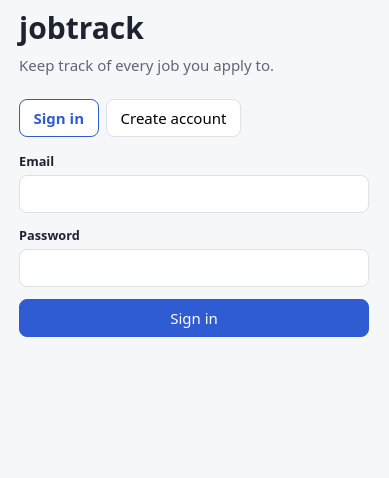
it: LoginPage › checks the password length before creating an account
Step 1. Click the tab "Create account" → x=173, y=118, box [106,99,241,137]
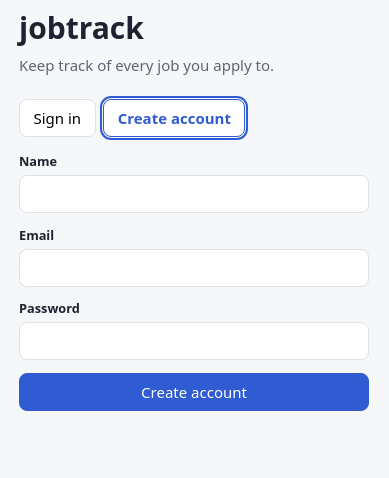
Step 2. Type "Ada" into the field labelled "Name" → x=194, y=194, box [19,175,369,213]
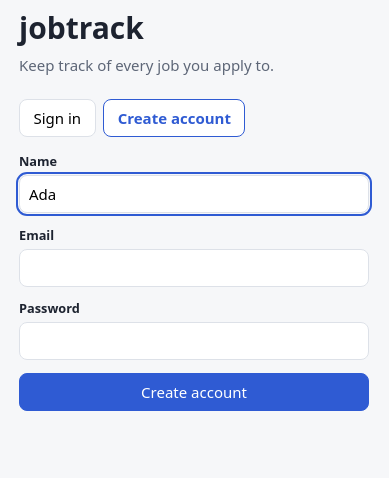
Step 3. Type "ada@example.com" into the field labelled "Email" → x=194, y=268, box [19,248,369,286]
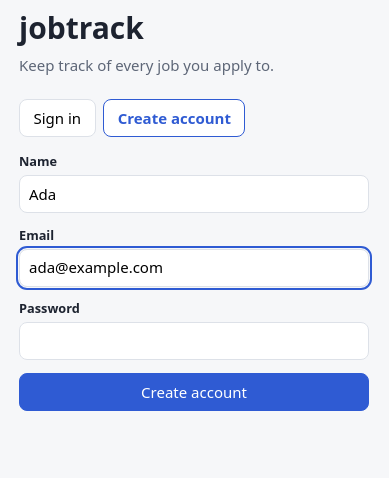
Step 4. Type "short" into the password field labelled "Password" → x=194, y=341, box [19,322,369,360]
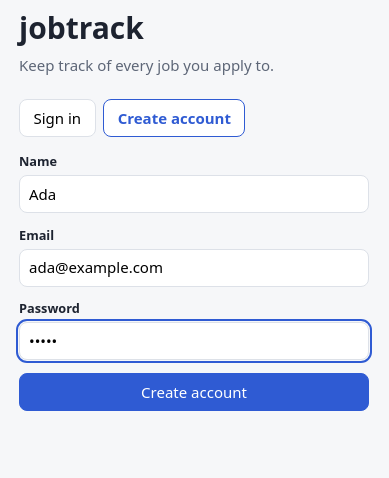
Step 5. Click the button "Create account" → x=194, y=392, box [19,373,369,411]
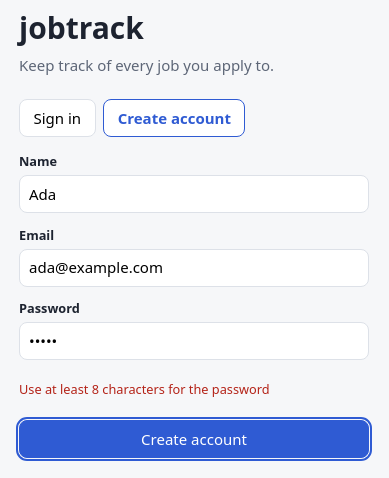
Expected: the message shows "at least 8 characters", [19,380,270,398]
